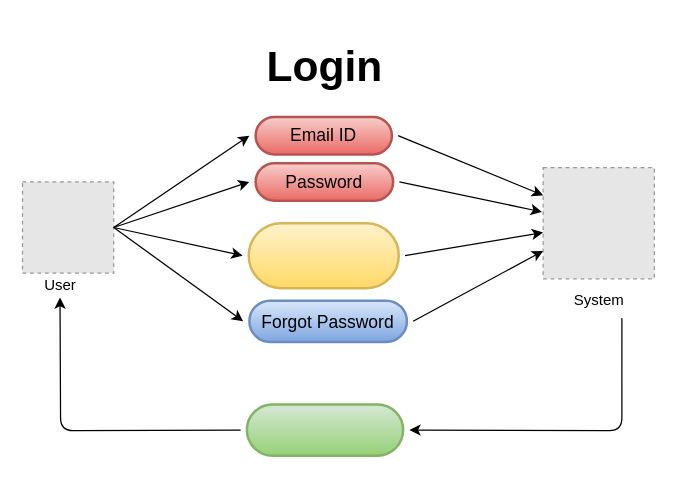
Image size: 676x479. Some labels were removed from this diagram. Grey dashed boxes stand in for pictures. The shapes that lost their labels are listed below. From the top down, each one's box as (x1, y1, x2, y2) in pixels, then its label:
(247, 221, 399, 289): New user ? Register
(245, 402, 404, 456): Login Successful
